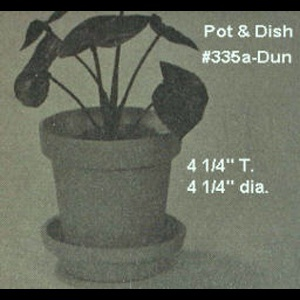flowerpot: (39, 107, 187, 282)
